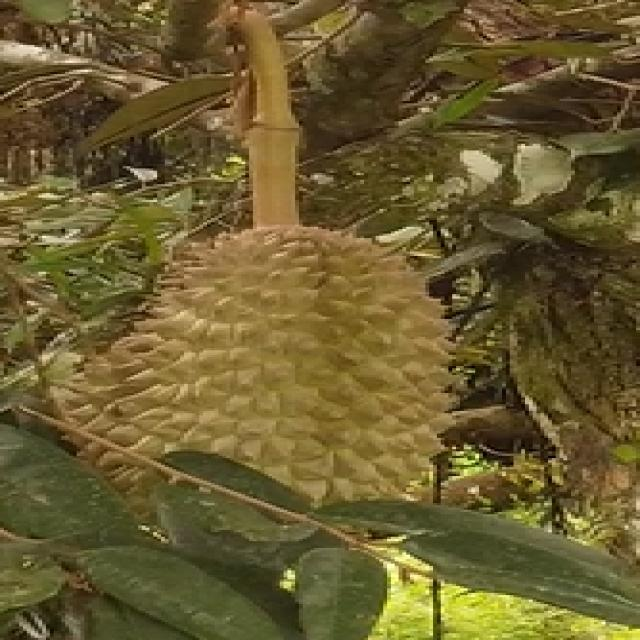mature: (53, 226, 462, 548)
